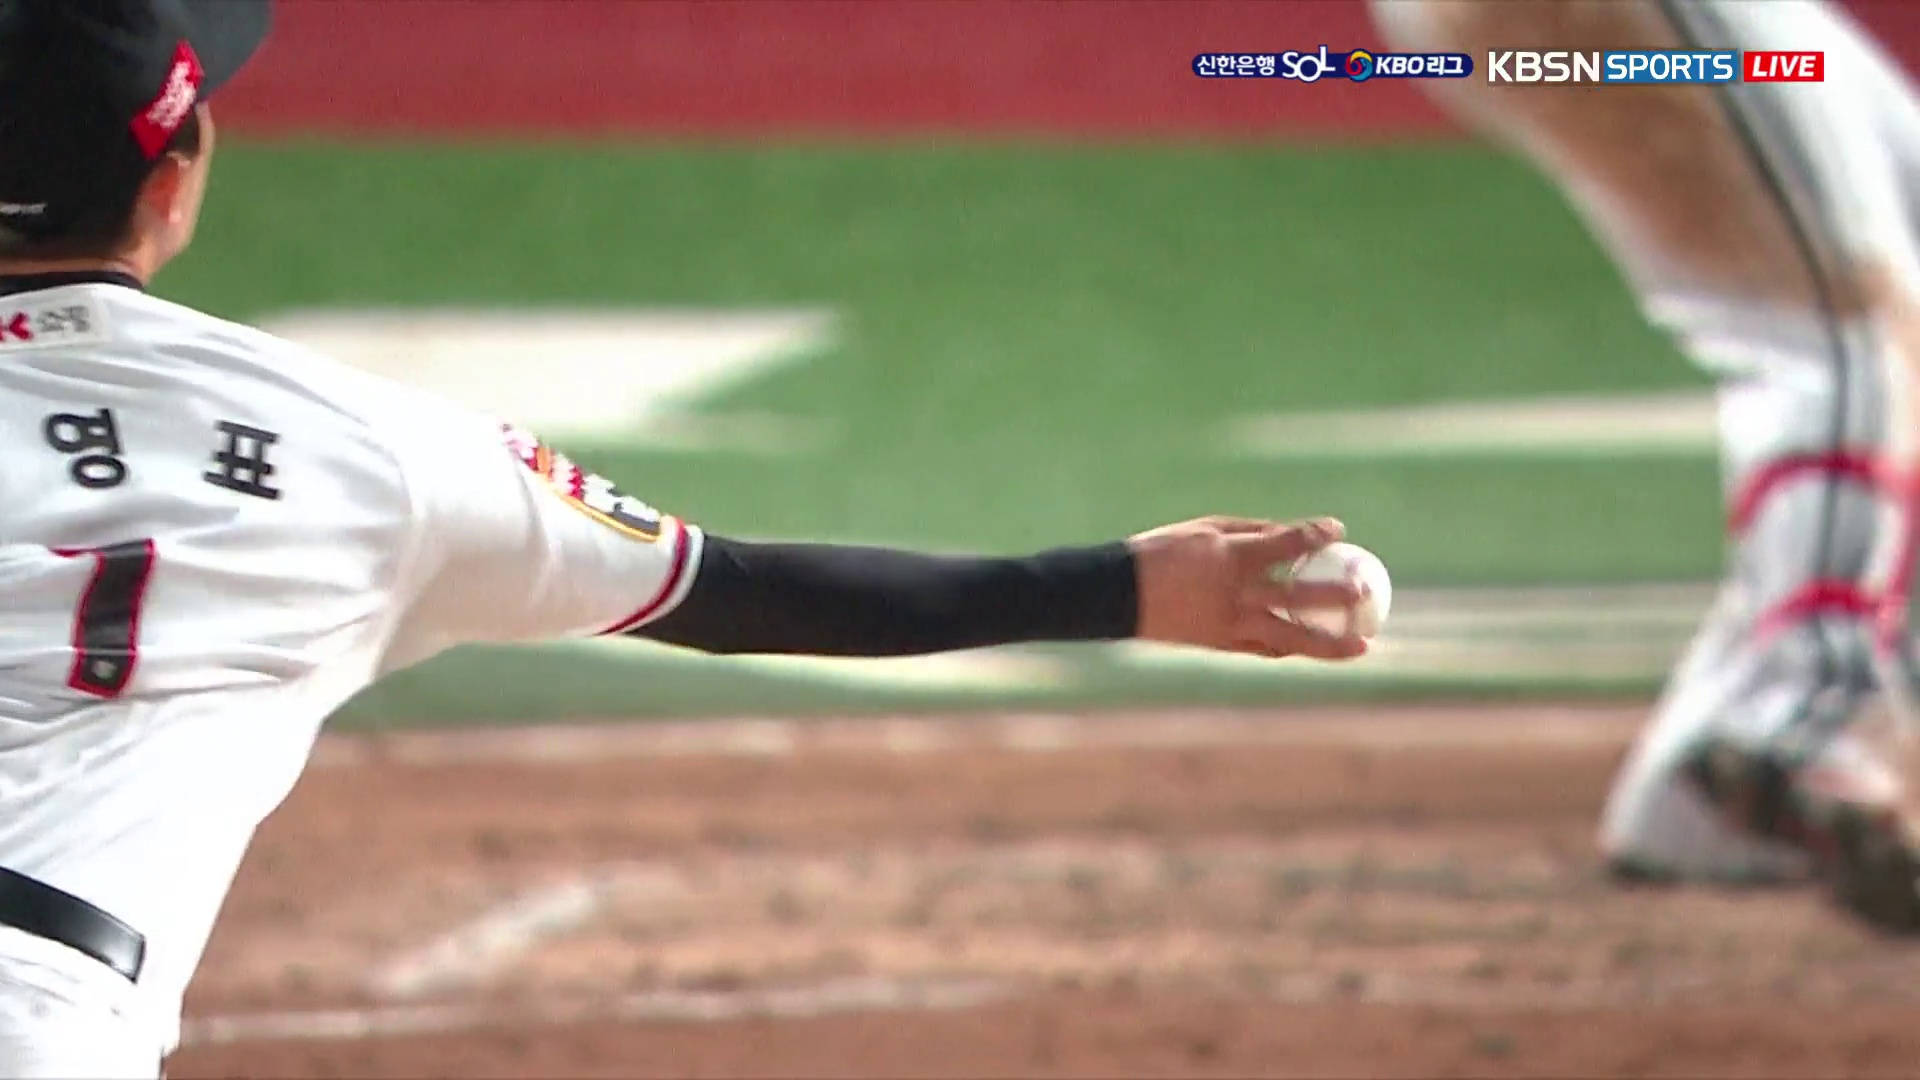zoomin_hand: (673, 501, 1403, 688)
